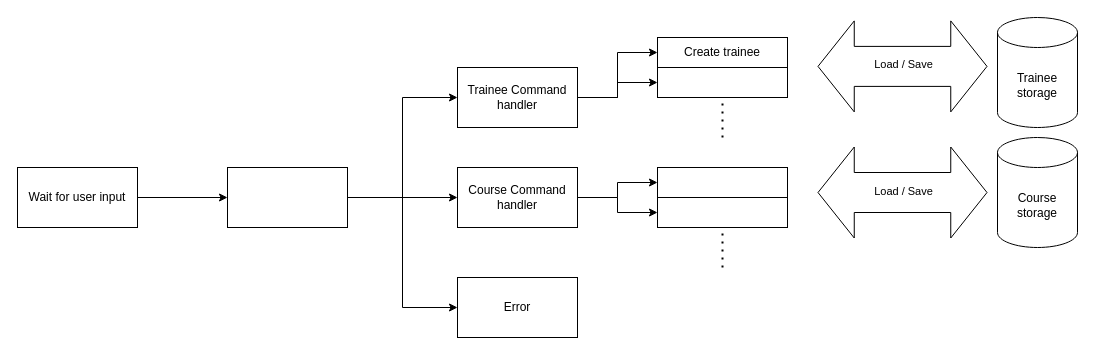
Image size: 1095x355. Some labels were removed from this diagram. The box of each missing label's shape, as (x1, y1, x2, y2) in pixels:
Command parser: (226, 166, 348, 228)
Create course: (656, 166, 788, 198)
Update course: (656, 196, 788, 228)
Update trainee: (656, 66, 788, 98)
